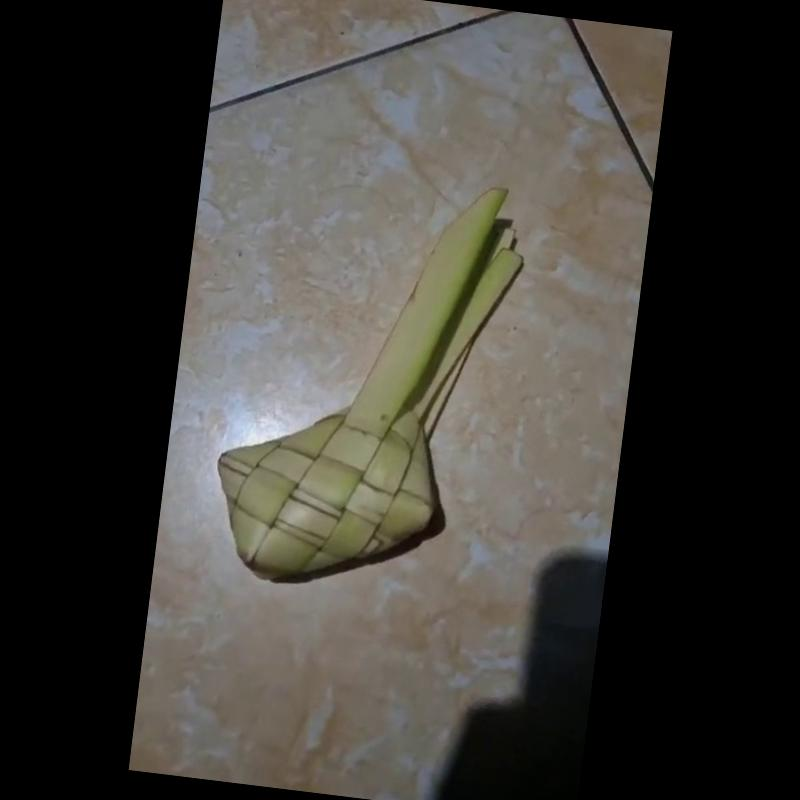Tipat Bantal: (217, 182, 523, 582)
